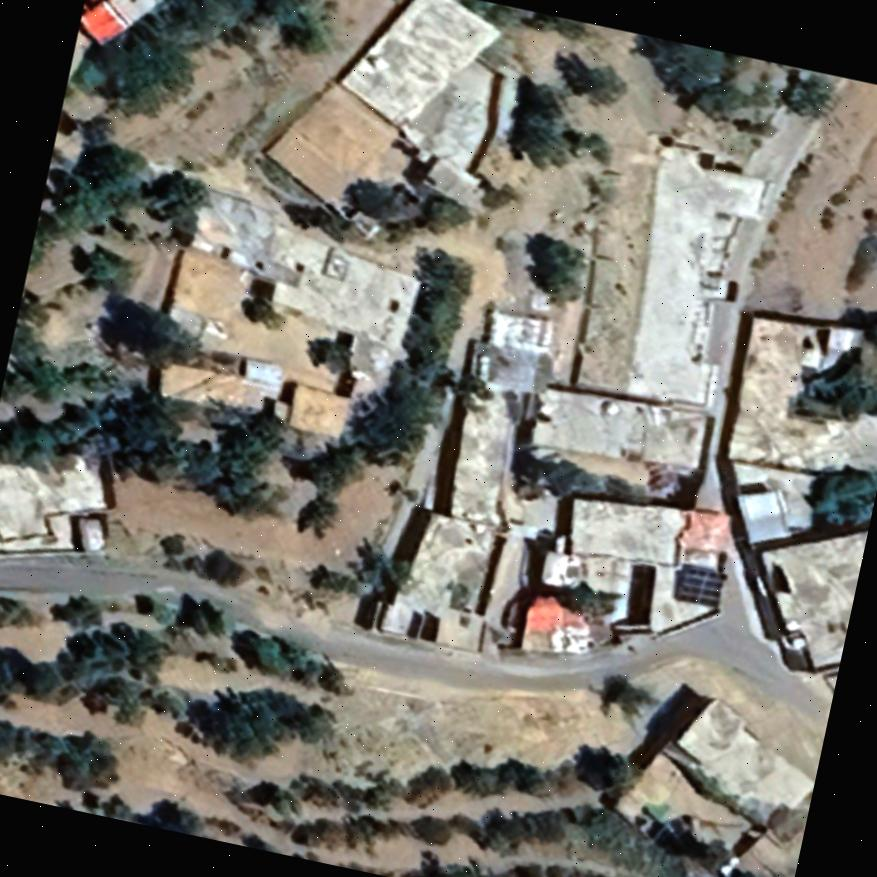Solarpanel: (667, 557, 730, 611)
